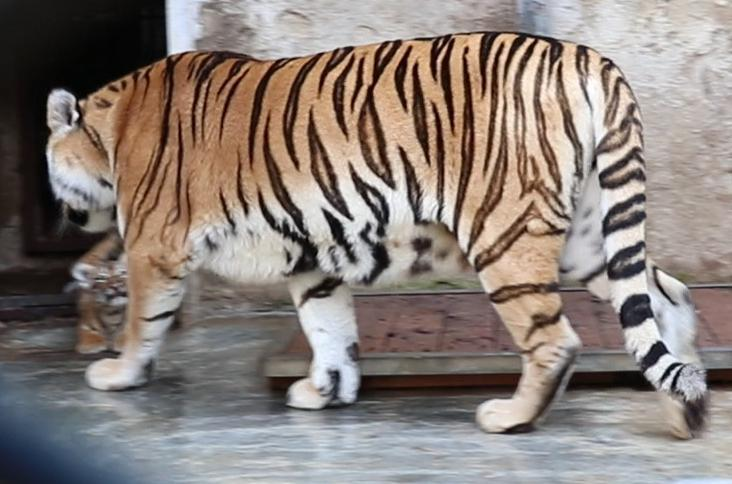tiger: (47, 32, 707, 437)
